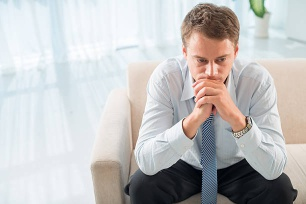male: (177, 5, 242, 92)
